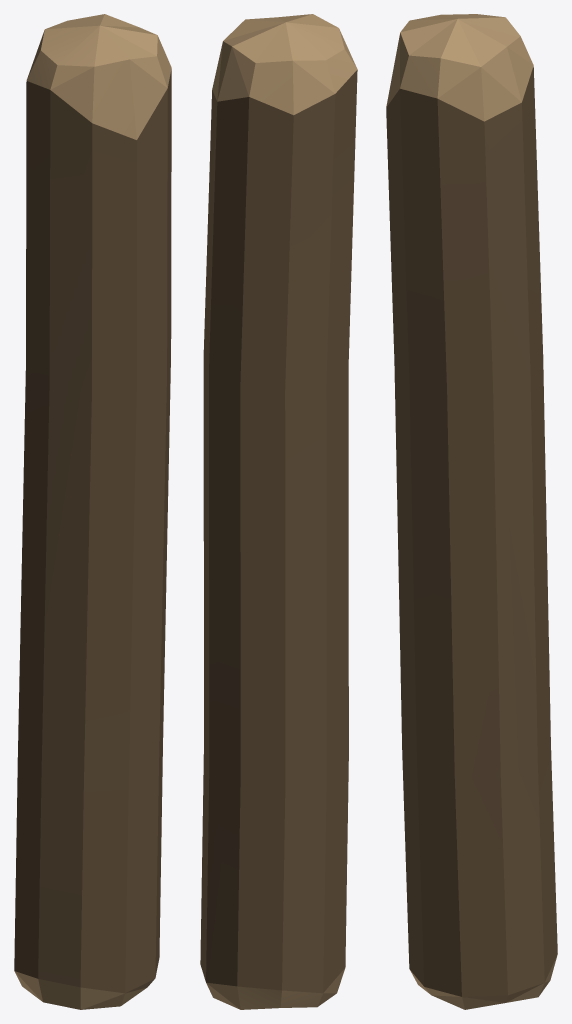
Rendered from Espiga.glb.
3 renders of one model, left to right at view 1: azimuth 30°, elevation 25°; view 2: azimuth 150°, elevation 25°; view 3: azimuth 270°, elevation 25°, orthographic.
Visible parts, largest first — view 1: SM_Prop_Fence_Wood_Pole_03_1; view 2: SM_Prop_Fence_Wood_Pole_03_1; view 3: SM_Prop_Fence_Wood_Pole_03_1.
Boxes of the visible parts, x1,y1,x2,y2 form: SM_Prop_Fence_Wood_Pole_03_1: (14, 14, 171, 1009); SM_Prop_Fence_Wood_Pole_03_1: (200, 14, 357, 1009); SM_Prop_Fence_Wood_Pole_03_1: (386, 14, 557, 1009).
Bounding box in the file's own units: 0.4731 × 3.45 × 0.5517.
Materials: 1 (1 with a texture image).
